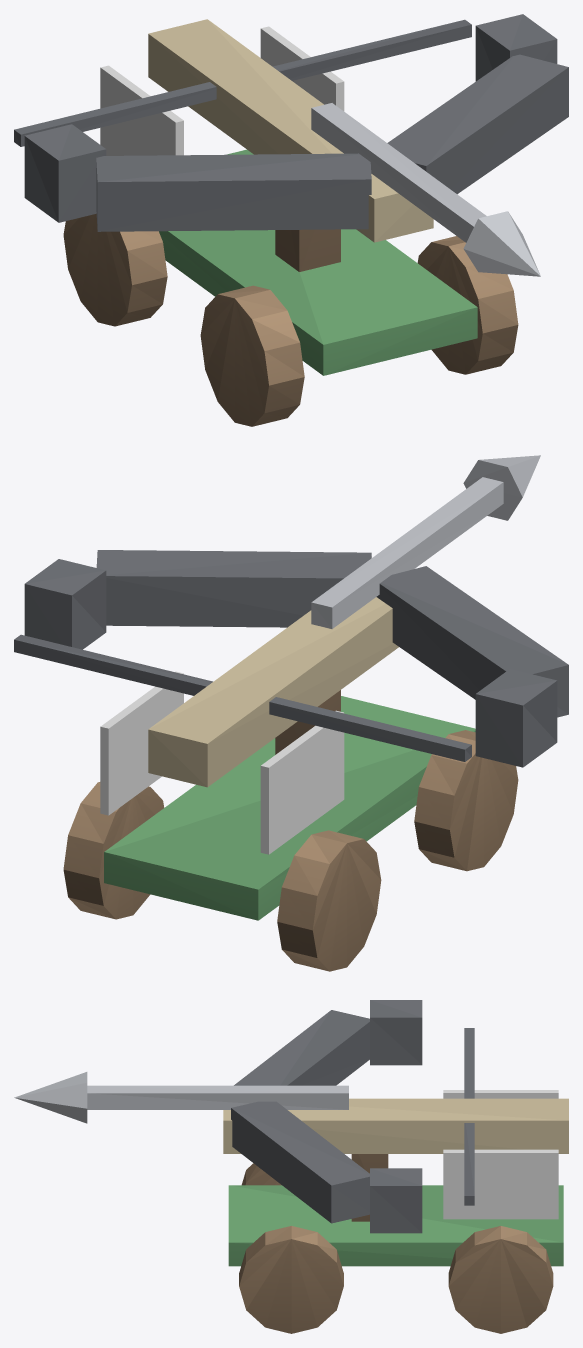
File: Ballista.glb
3 views of the same model, one above another, from view 1: azimuth 30°, elevation 25°; view 2: azimuth 150°, elevation 25°; view 3: azimuth 270°, elevation 25° (orthographic). The views are drawn at different scales.
Visible parts, largest first — view 1: Body; view 2: Body; view 3: Body.
Boxes of the visible parts, x1=… form: Body: x1=14, y1=14, x2=568, y2=426; Body: x1=14, y1=455, x2=568, y2=971; Body: x1=14, y1=1000, x2=568, y2=1333.
Size of the model in its own units: 0.84 by 0.4433 by 1.06.
